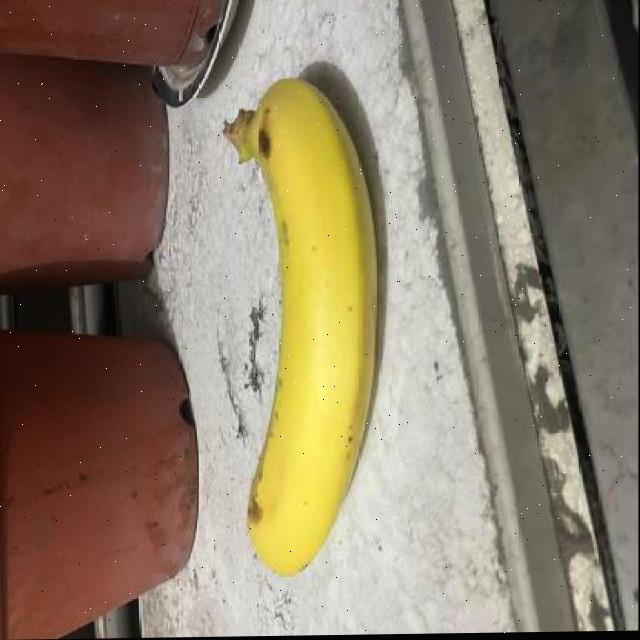banana: (218, 63, 387, 579)
